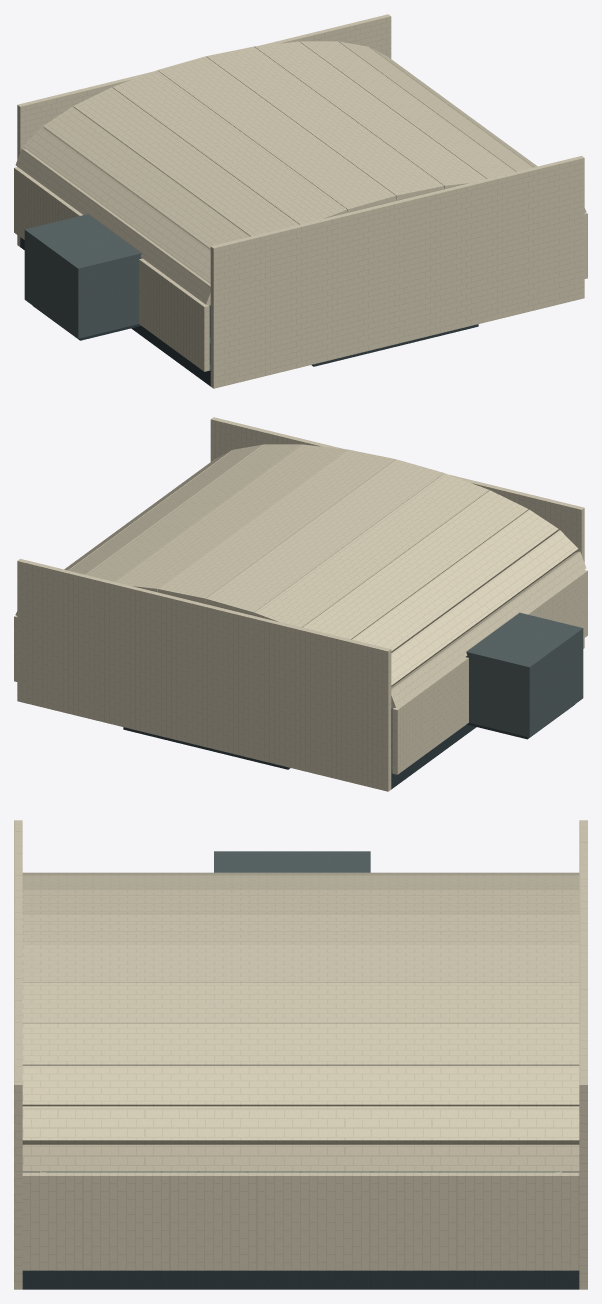
Rendered from etalon_da_avant.glb.
The picture shows the model from 3 angles, top to bottom: view 1: azimuth 30°, elevation 25°; view 2: azimuth 150°, elevation 25°; view 3: azimuth 270°, elevation 25°; orthographic projection. The views are drawn at different scales.
Visible parts, largest first — view 1: kit_quartier_etalon_arriere, kit_quartier_etalon_fond, kit_quartier_etalon_service_plafond, kit_quartier_etalon_service_cote, kit_quartier_etalon_service_sud, kit_quartier_3_kit_mur_quai_4m_001, kit_quartier_23_kit_mur_quai_4m_001, kit_quartier_etalon_jambage_4, kit_quartier_5_kit_voute_station_4m_021, kit_quartier_5_kit_voute_station_4m_025, kit_quartier_5_kit_voute_station_4m_017, kit_quartier_5_kit_voute_station_4m_019 (+90 smaller); view 2: kit_quartier_etalon_fond, kit_quartier_etalon_arriere, kit_quartier_etalon_service_plafond, kit_quartier_etalon_service_cote, kit_quartier_etalon_service_fond, kit_quartier_23_kit_mur_quai_4m_001, kit_quartier_3_kit_mur_quai_4m_001, kit_quartier_16_kit_mur_quai_4m_001, kit_quartier_25_kit_voute_station_4m_024, kit_quartier_25_kit_voute_station_4m_028, kit_quartier_25_kit_voute_station_4m_020, kit_quartier_18_kit_voute_station_4m_018 (+90 smaller); view 3: kit_quartier_4_kit_mur_quai_4m_001, kit_quartier_24_kit_mur_quai_4m_001, kit_quartier_10_kit_mur_quai_4m_001, kit_quartier_17_kit_mur_quai_4m_001, kit_quartier_etalon_fond, kit_quartier_etalon_arriere, kit_quartier_etalon_service_plafond, kit_quartier_2_kit_quai_5x4_001, kit_quartier_22_kit_quai_5x4_001, kit_quartier_9_kit_quai_5x4_001, kit_quartier_15_kit_quai_5x4_001, kit_quartier_5_kit_voute_station_4m_033 (+127 smaller).
Part boxes in pixels (x1,y1,x2,y2): kit_quartier_etalon_arriere: (210, 156, 584, 388); kit_quartier_etalon_fond: (17, 14, 391, 246); kit_quartier_etalon_service_plafond: (24, 214, 142, 273); kit_quartier_etalon_service_cote: (24, 235, 83, 338); kit_quartier_etalon_service_sud: (83, 259, 138, 337); kit_quartier_3_kit_mur_quai_4m_001: (157, 271, 209, 371); kit_quartier_23_kit_mur_quai_4m_001: (14, 167, 64, 239); kit_quartier_etalon_jambage_4: (139, 258, 159, 336); kit_quartier_5_kit_voute_station_4m_021: (336, 187, 396, 212); kit_quartier_5_kit_voute_station_4m_025: (384, 177, 444, 200); kit_quartier_5_kit_voute_station_4m_017: (291, 201, 347, 224); kit_quartier_5_kit_voute_station_4m_019: (267, 183, 323, 209); kit_quartier_etalon_fond: (17, 559, 391, 791); kit_quartier_etalon_arriere: (210, 417, 584, 648); kit_quartier_etalon_service_plafond: (466, 612, 583, 672); kit_quartier_etalon_service_cote: (524, 634, 583, 737); kit_quartier_etalon_service_fond: (469, 658, 524, 735); kit_quartier_23_kit_mur_quai_4m_001: (392, 674, 444, 774); kit_quartier_3_kit_mur_quai_4m_001: (537, 570, 587, 638); kit_quartier_16_kit_mur_quai_4m_001: (442, 657, 468, 739); kit_quartier_25_kit_voute_station_4m_024: (205, 590, 265, 615); kit_quartier_25_kit_voute_station_4m_028: (157, 580, 217, 603); kit_quartier_25_kit_voute_station_4m_020: (254, 604, 310, 627); kit_quartier_18_kit_voute_station_4m_018: (326, 551, 382, 577); kit_quartier_4_kit_mur_quai_4m_001: (22, 1172, 161, 1270); kit_quartier_24_kit_mur_quai_4m_001: (440, 1172, 579, 1270); kit_quartier_10_kit_mur_quai_4m_001: (162, 1172, 300, 1270); kit_quartier_17_kit_mur_quai_4m_001: (301, 1172, 439, 1270); kit_quartier_etalon_fond: (579, 820, 587, 1289); kit_quartier_etalon_arriere: (14, 820, 22, 1289); kit_quartier_etalon_service_plafond: (214, 851, 370, 872); kit_quartier_2_kit_quai_5x4_001: (22, 1270, 161, 1289); kit_quartier_22_kit_quai_5x4_001: (440, 1270, 579, 1289); kit_quartier_9_kit_quai_5x4_001: (162, 1270, 300, 1289); kit_quartier_15_kit_quai_5x4_001: (301, 1270, 439, 1289); kit_quartier_5_kit_voute_station_4m_033: (22, 1023, 57, 1065).
Bounding box in the file's own units: 21.55 × 7 × 16.5.
Materials: 10 (4 with a texture image).
